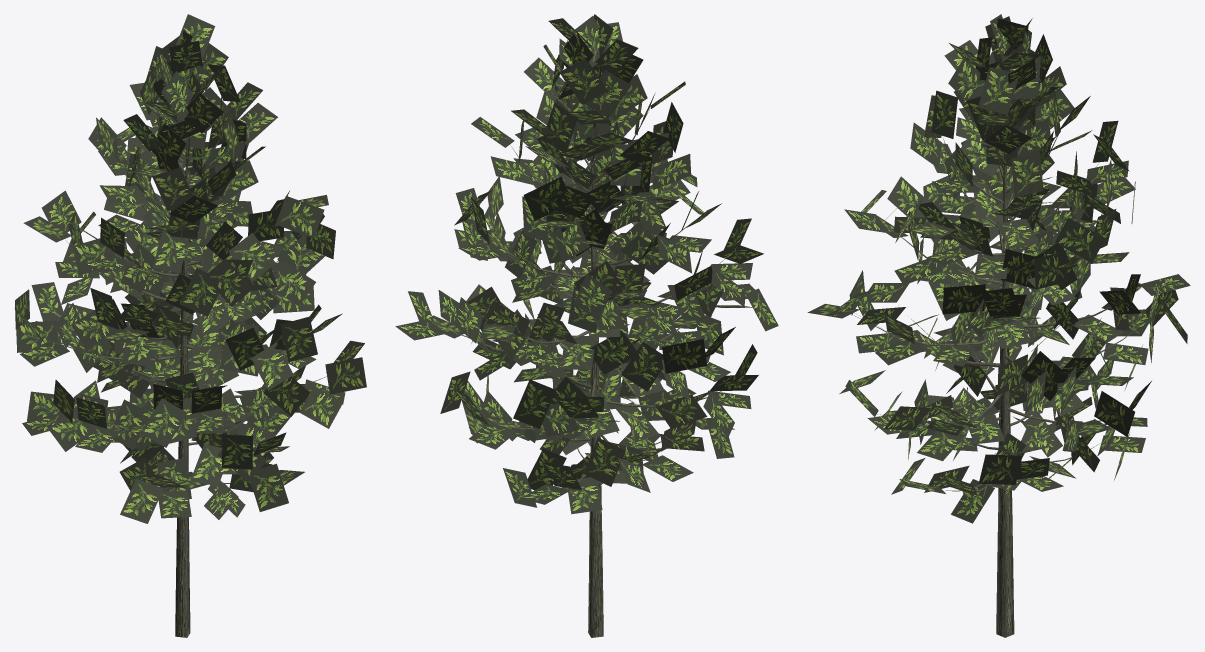
The model's file is SM_Aspen.fbx.
3 renders of one model, left to right at view 1: azimuth 30°, elevation 25°; view 2: azimuth 150°, elevation 25°; view 3: azimuth 270°, elevation 25°, orthographic. The views are drawn at different scales.
Visible parts, largest first — view 1: SM_Aspen; view 2: SM_Aspen; view 3: SM_Aspen.
Boxes of the visible parts, <box> form: SM_Aspen: <box>14,14,366,637</box>; SM_Aspen: <box>395,14,778,637</box>; SM_Aspen: <box>807,14,1190,637</box>.
Size of the model in its own units: 839 by 896 by 1613.
Materials: 2 (2 with a texture image).
